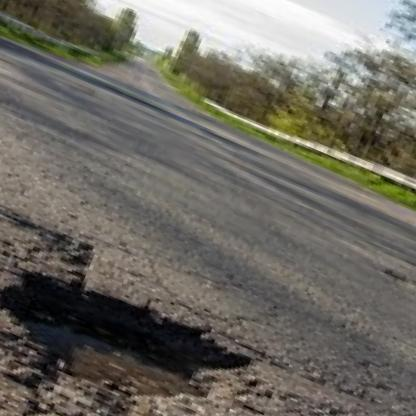pothole: (0, 237, 273, 416)
